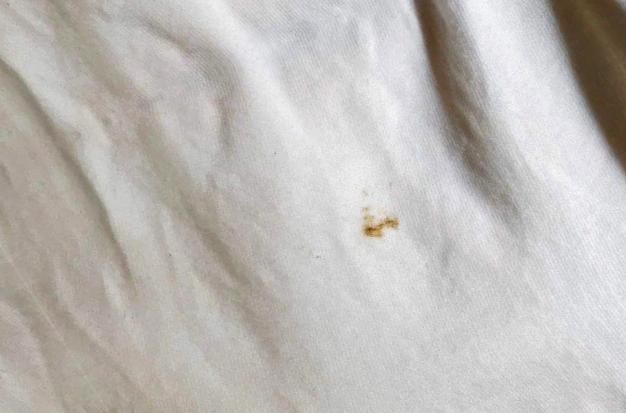stain: (353, 198, 403, 246)
